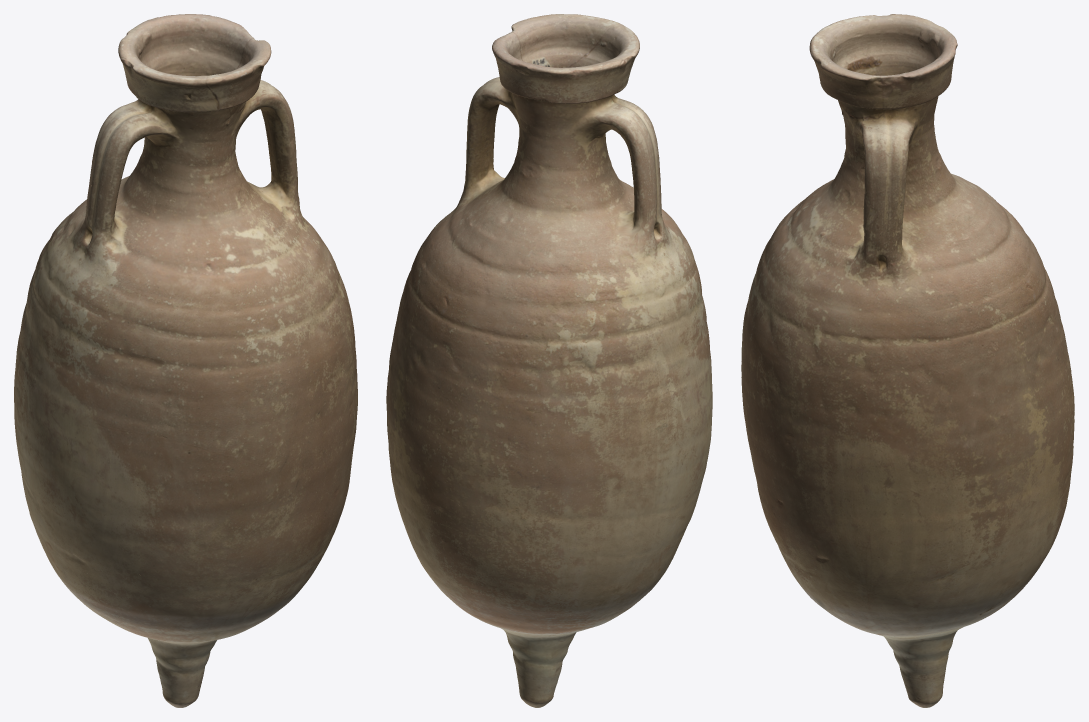
File: badalona_laietana_wine_amphora_glb_1k.glb
3 views of the same model, side by side, from view 1: azimuth 30°, elevation 25°; view 2: azimuth 150°, elevation 25°; view 3: azimuth 270°, elevation 25° (orthographic). The views are drawn at different scales.
Parts seen in each view (by area): view 1: Object_3, Object_2; view 2: Object_2, Object_3; view 3: Object_2, Object_3.
Part boxes in pixels (x1,y1,x2,y2): Object_3: [14, 18, 357, 707]; Object_2: [18, 14, 345, 700]; Object_2: [386, 14, 712, 694]; Object_3: [386, 36, 711, 707]; Object_2: [742, 14, 1074, 705]; Object_3: [741, 22, 1074, 707].
Size of the model in its own units: 0.3622 by 0.7912 by 0.3619.
1 material, 1 textured.
